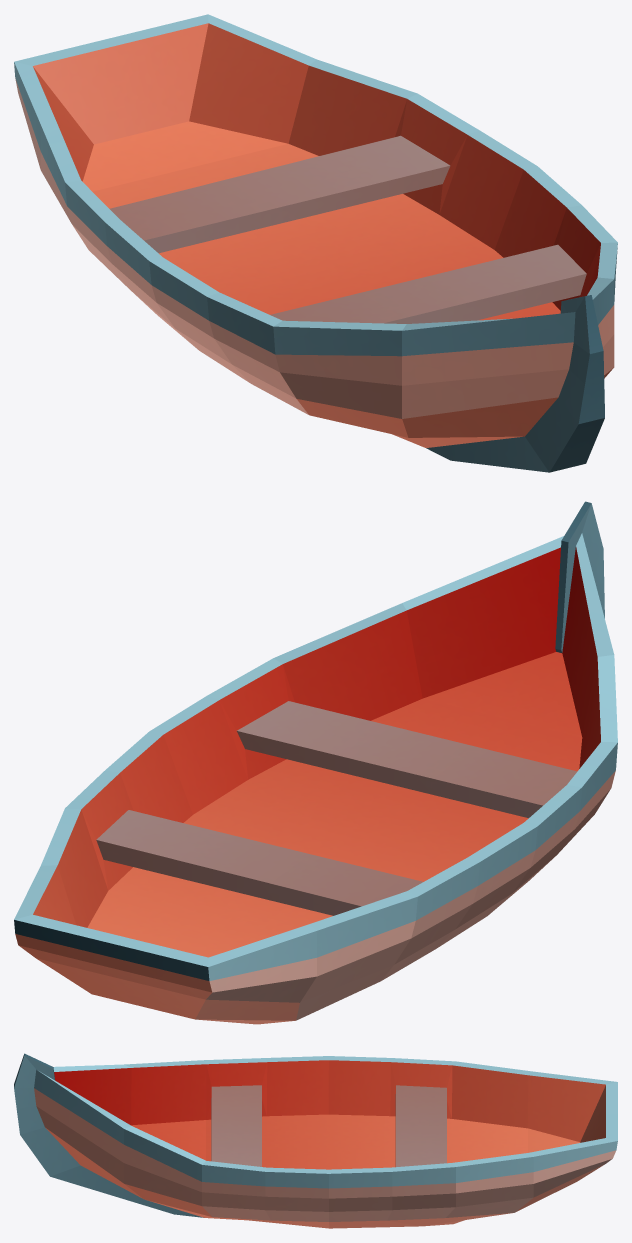
The model's file is small_boat.glb.
3 renders of one model, top to bottom at view 1: azimuth 30°, elevation 25°; view 2: azimuth 150°, elevation 25°; view 3: azimuth 270°, elevation 25°, orthographic. The views are drawn at different scales.
Parts seen in each view (by area): view 1: small_boat; view 2: small_boat; view 3: small_boat.
Part boxes in pixels (x1,y1,x2,y2): small_boat: [14, 14, 617, 472]; small_boat: [14, 501, 617, 1024]; small_boat: [14, 1053, 617, 1228].
Size of the model in its own units: 3.56 by 2.33 by 7.7.
1 material, 1 textured.
